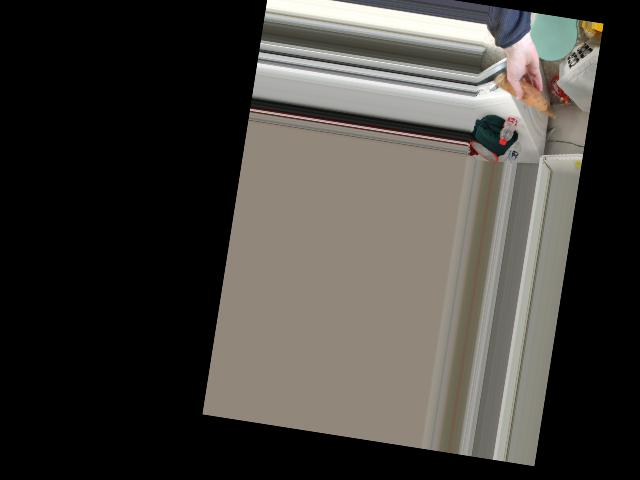sweet_potato: (495, 73, 545, 112)
